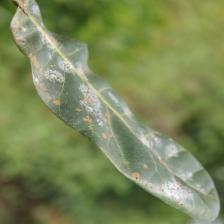red rust: (1, 0, 220, 223)
